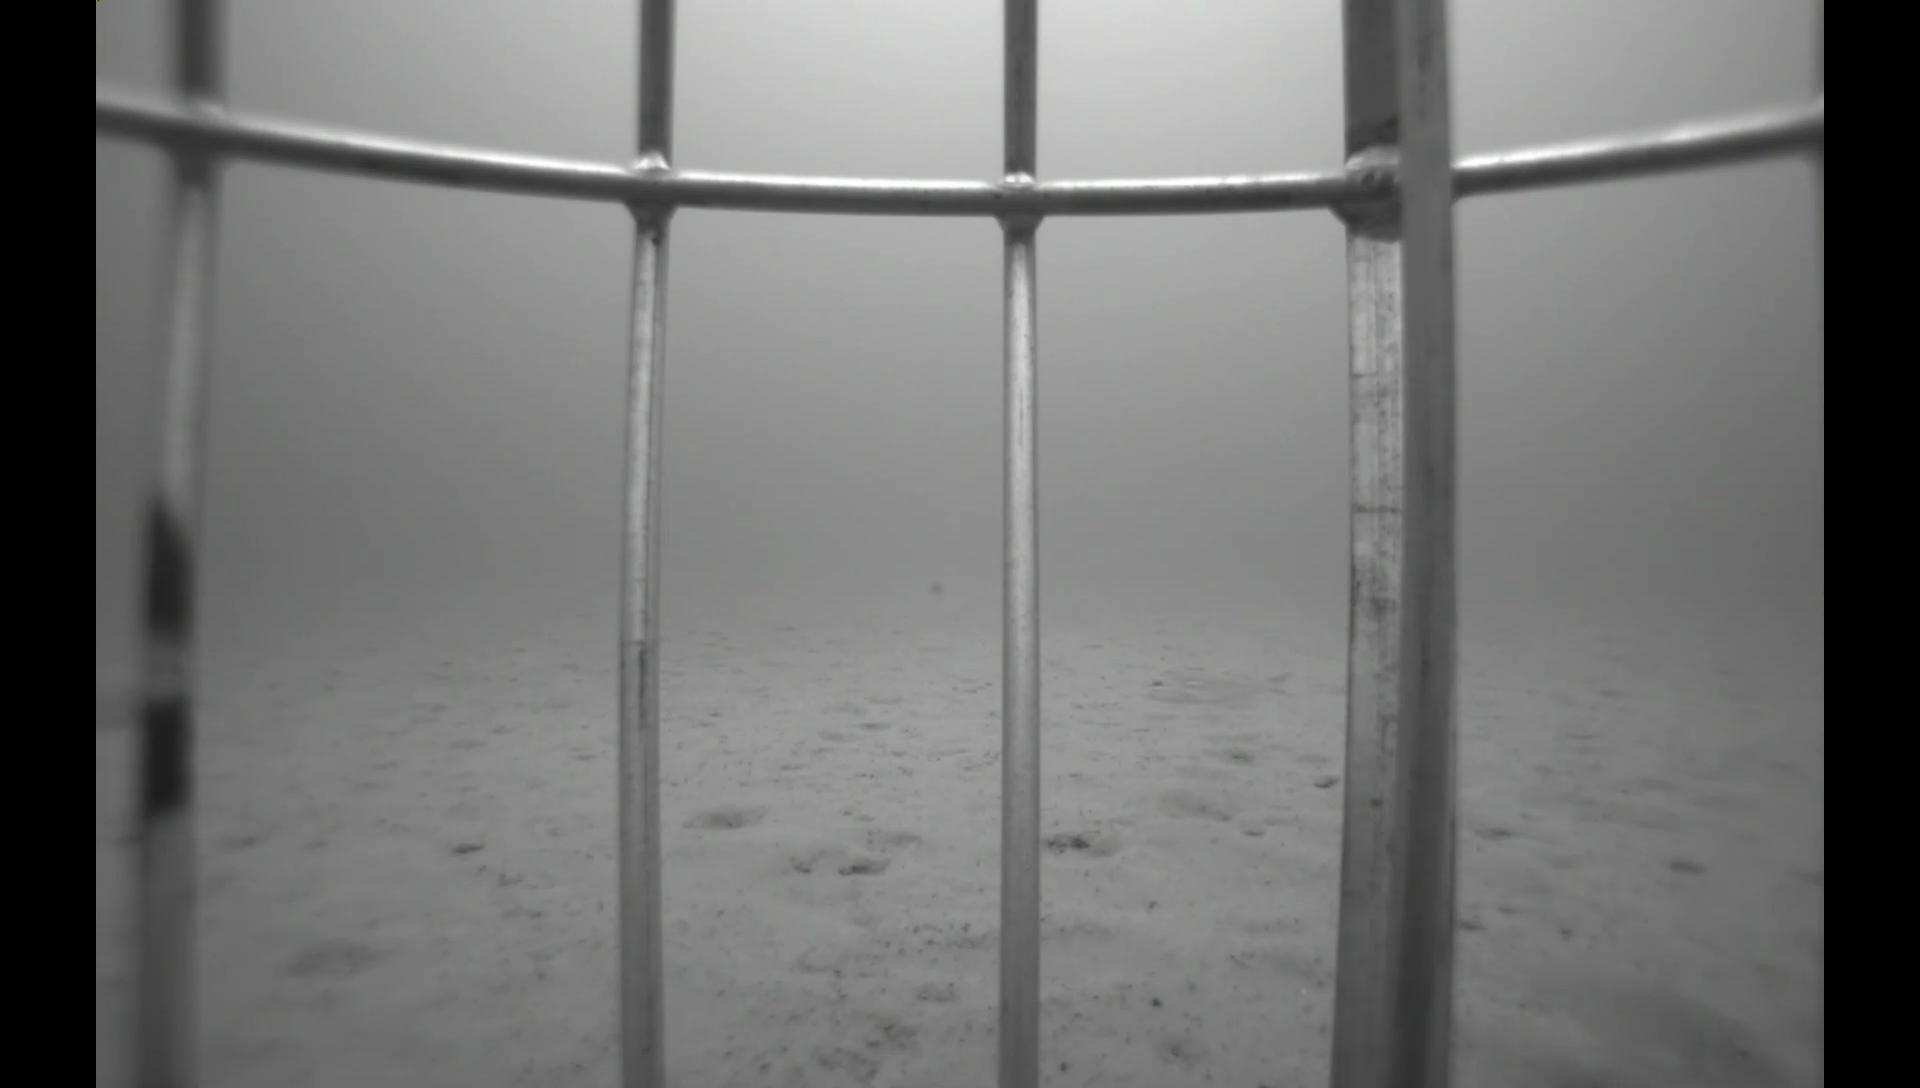CAULOLATILUSCYANOPS-170070101: (1138, 658, 1303, 708)
PRISTIPOMOIDES-170151800: (1497, 934, 1797, 1087)
